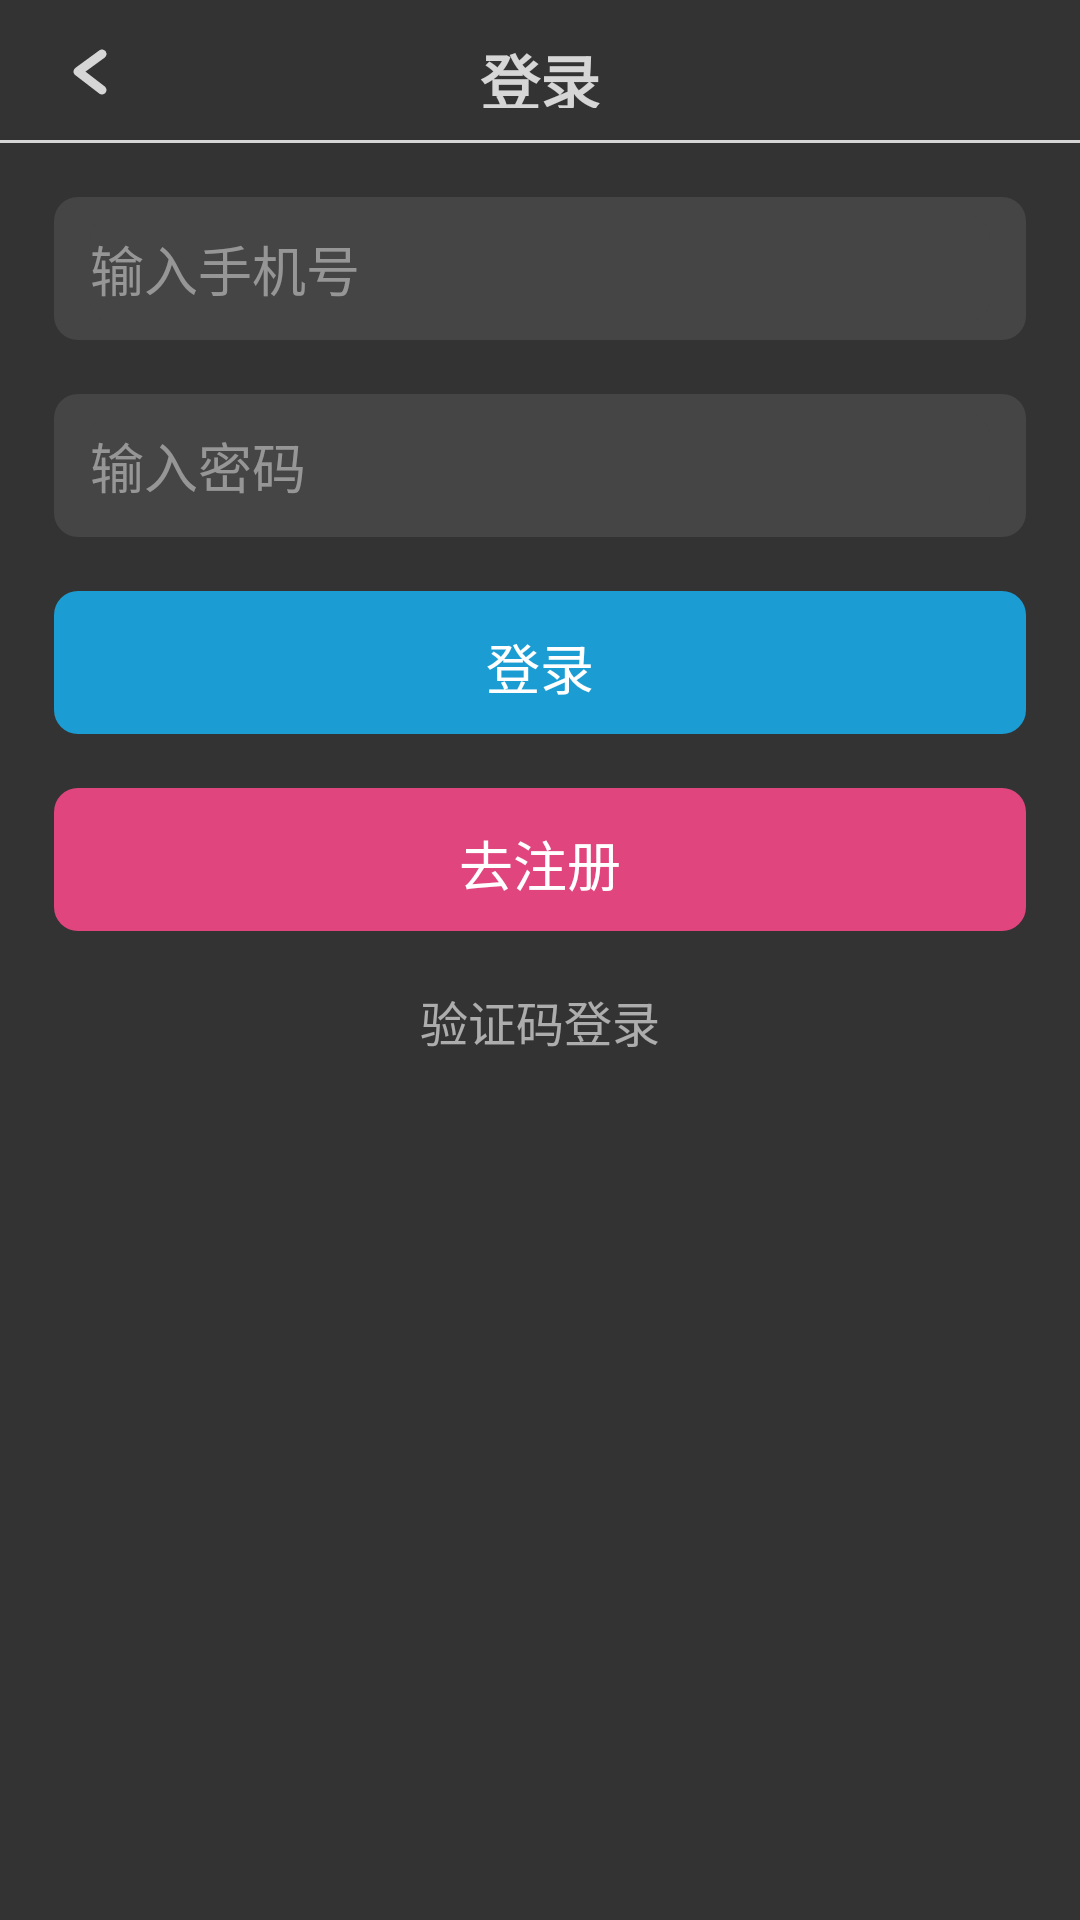

Icon click points for this 1080 x 1920 phone screenshot, format (x=x, y=y):
back: (x=90, y=72)
